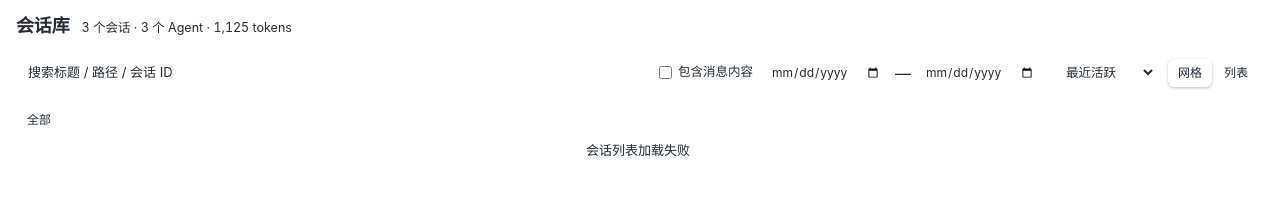
Test case: SessionLibrary (t227) › 加载失败且筛选 0 条时显示加载失败并保留清除筛选
Expected: the text "会话列表加载失败" is shown, [586,140,690,160]
Type "x" into the field with placeholder "搜索标题 / 路径 / 会话 ID". click: (332, 73)
box: [16,55,649,90]
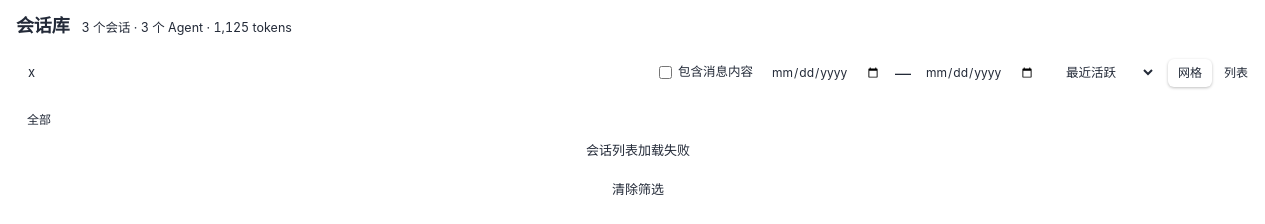
Expected: the text "会话列表加载失败" is shown, [586,140,690,160]
Expected: the button "清除筛选" is shown, [594,172,682,208]
